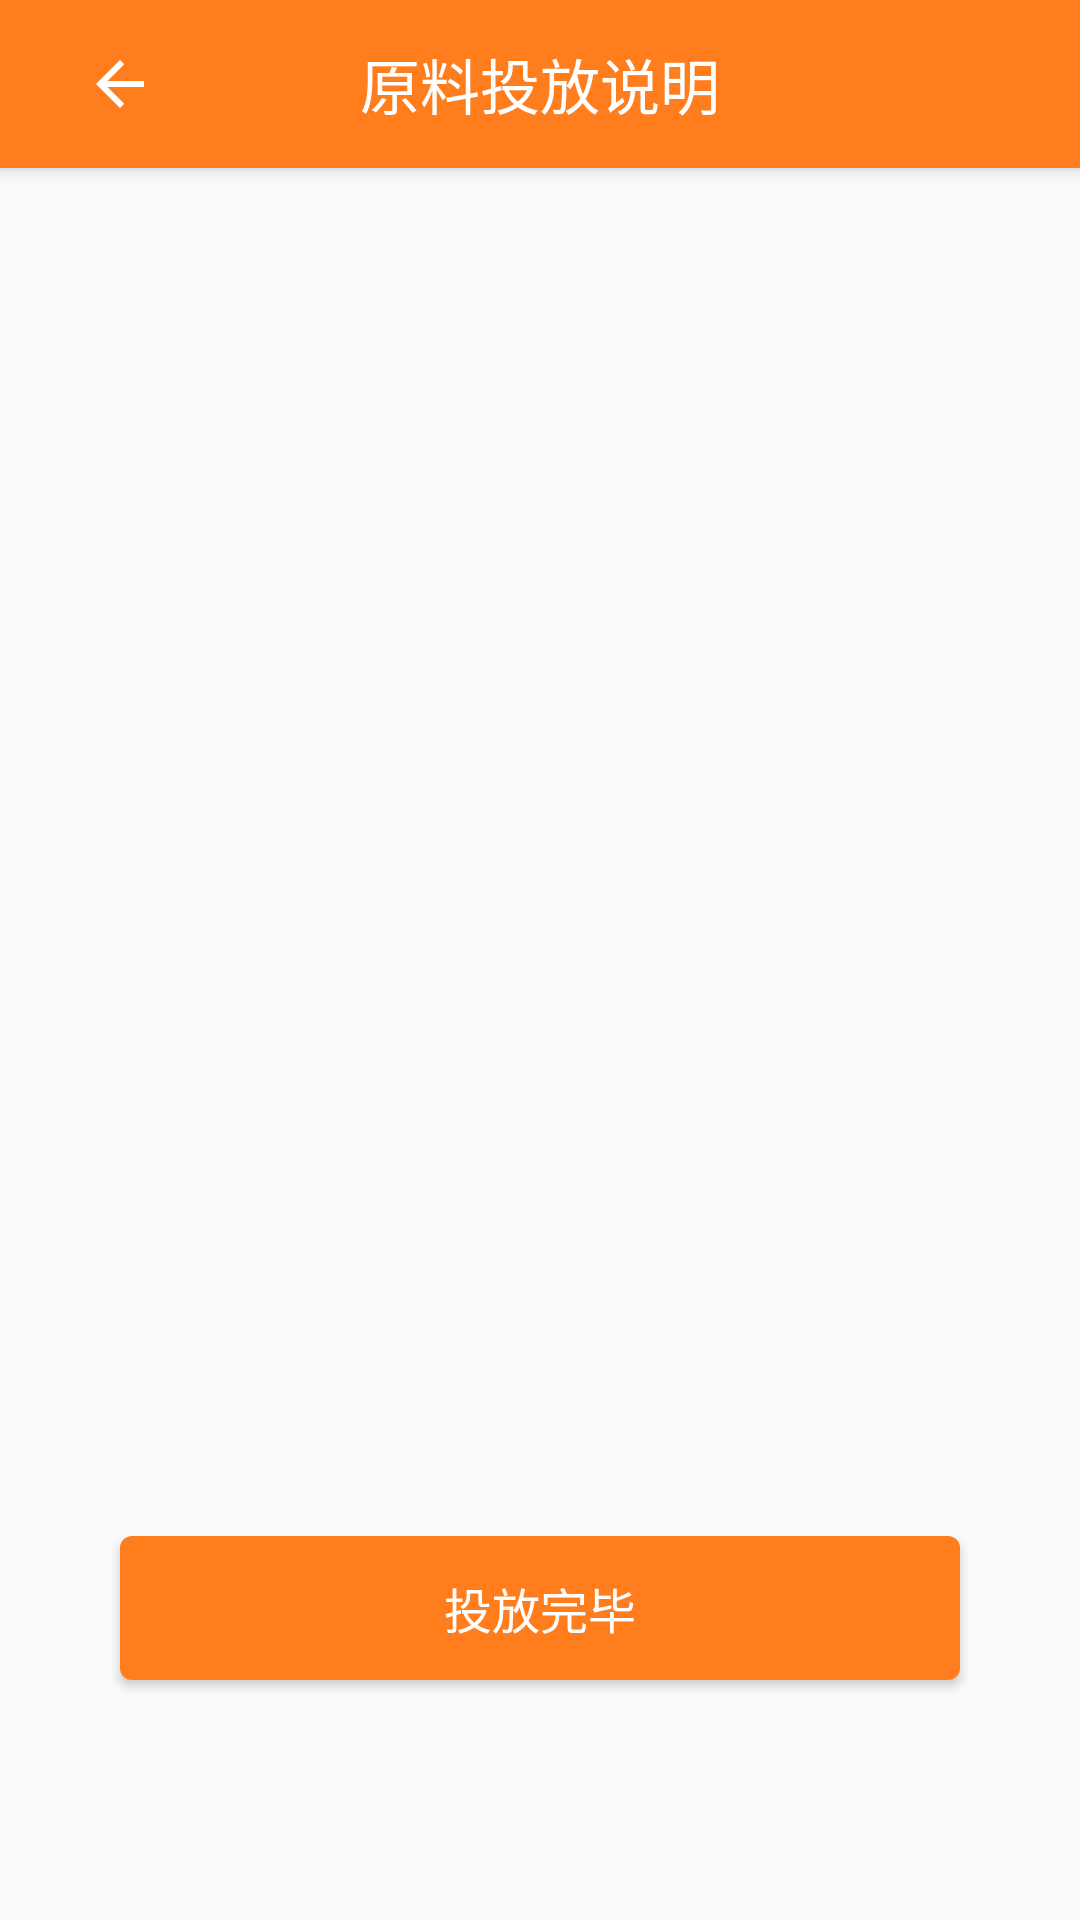

Point at icon controls on the screen. Image size 1080w x 1920h, points as [x,y].
left arrow: [120,84]
